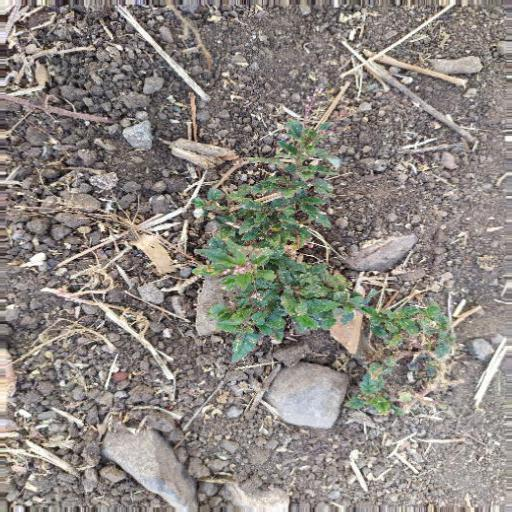weed: (173, 119, 450, 391)
